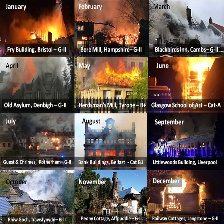fire: (15, 16, 65, 43), (93, 60, 143, 86), (165, 180, 203, 208), (183, 59, 207, 98), (106, 20, 136, 45), (11, 60, 34, 90), (30, 131, 61, 152), (88, 148, 133, 158)
smoke: (164, 13, 214, 41), (28, 175, 65, 198), (39, 57, 63, 78)
